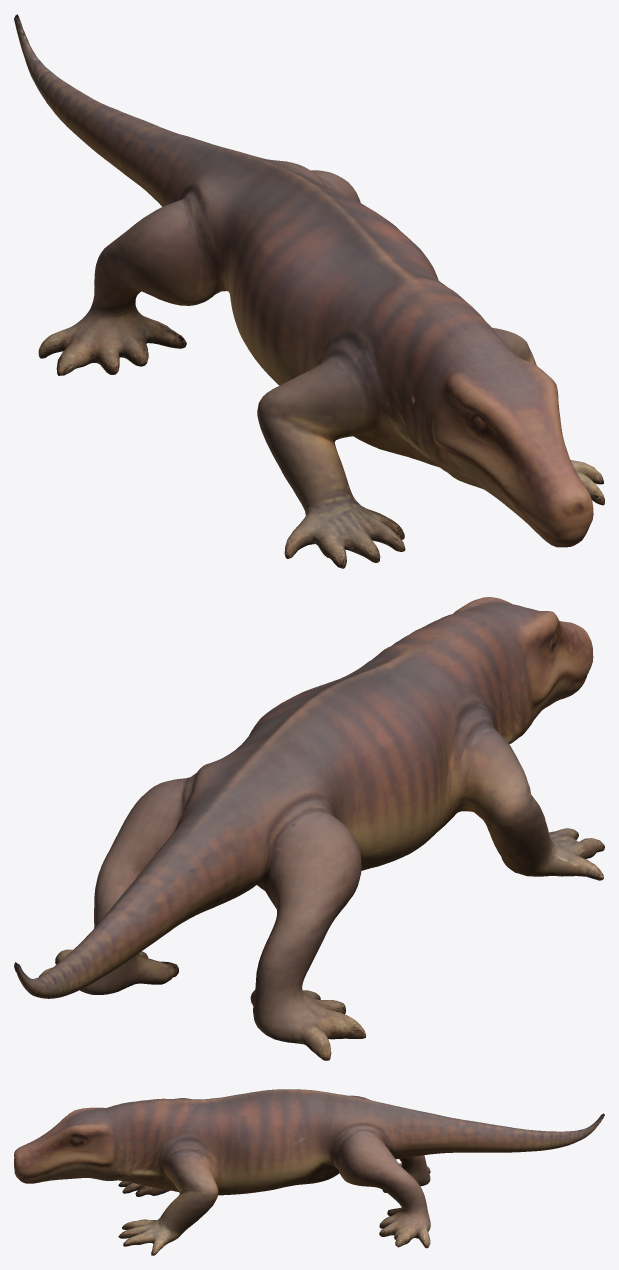
3 views of the same model, one above another, from view 1: azimuth 30°, elevation 25°; view 2: azimuth 150°, elevation 25°; view 3: azimuth 270°, elevation 25° (orthographic). The views are drawn at different scales.
Visible parts, largest first — view 1: world; view 2: world; view 3: world.
Boxes of the visible parts, box(x1,y1,x2,y2) form: world: box(14, 14, 604, 568); world: box(14, 597, 604, 1060); world: box(14, 1089, 604, 1255).
Size of the model in its own units: 0.3916 by 0.2828 by 1.2.
Materials: 1 (1 with a texture image).
